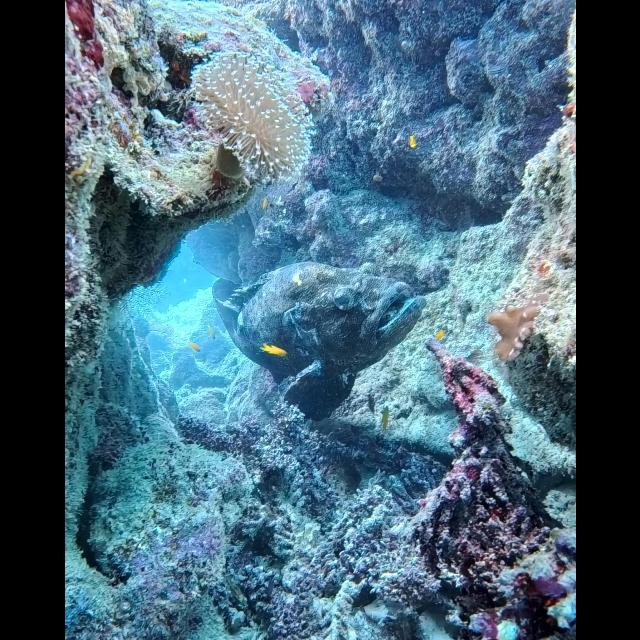Groupers: (212, 261, 422, 417)
